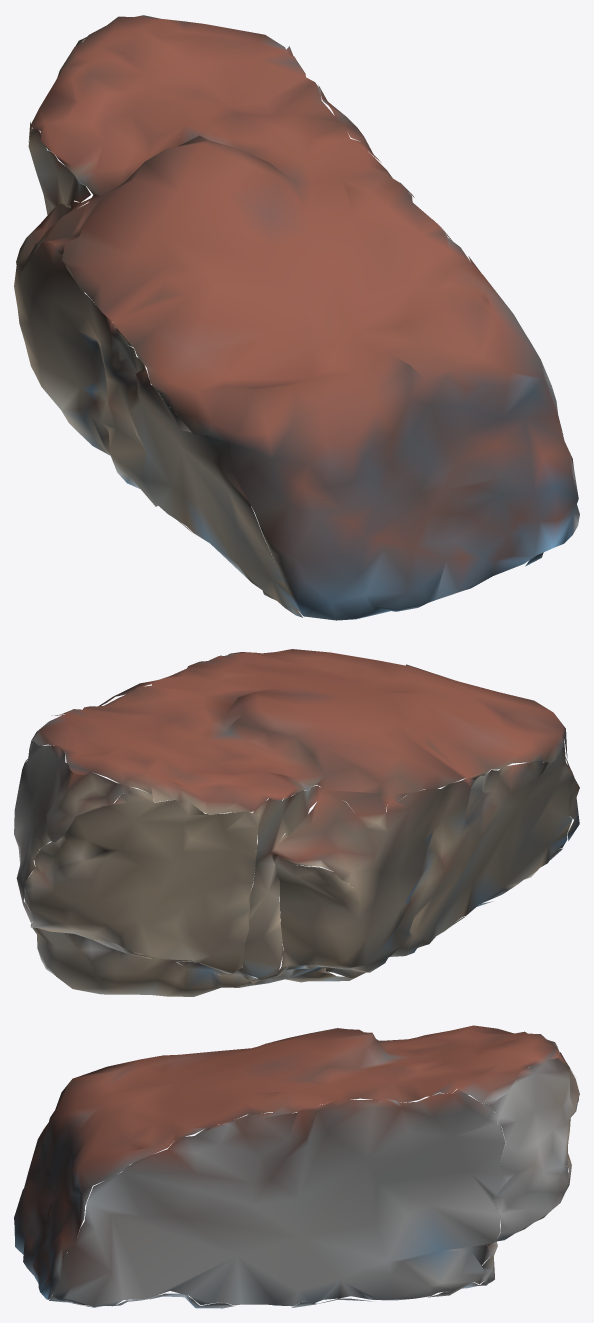
File: rock_rock_07_lod0.glb
3 renders of one model, top to bottom at view 1: azimuth 30°, elevation 25°; view 2: azimuth 150°, elevation 25°; view 3: azimuth 270°, elevation 25°, orthographic. The views are drawn at different scales.
Visible parts, largest first — view 1: rock_07; view 2: rock_07; view 3: rock_07.
Part boxes in pixels (left/top/right/bottom): rock_07: left=14, top=15, right=579, bottom=620; rock_07: left=14, top=649, right=579, bottom=996; rock_07: left=14, top=1025, right=579, bottom=1308.
Bounding box in the file's own units: 0.1687 × 0.1429 × 0.3205.
